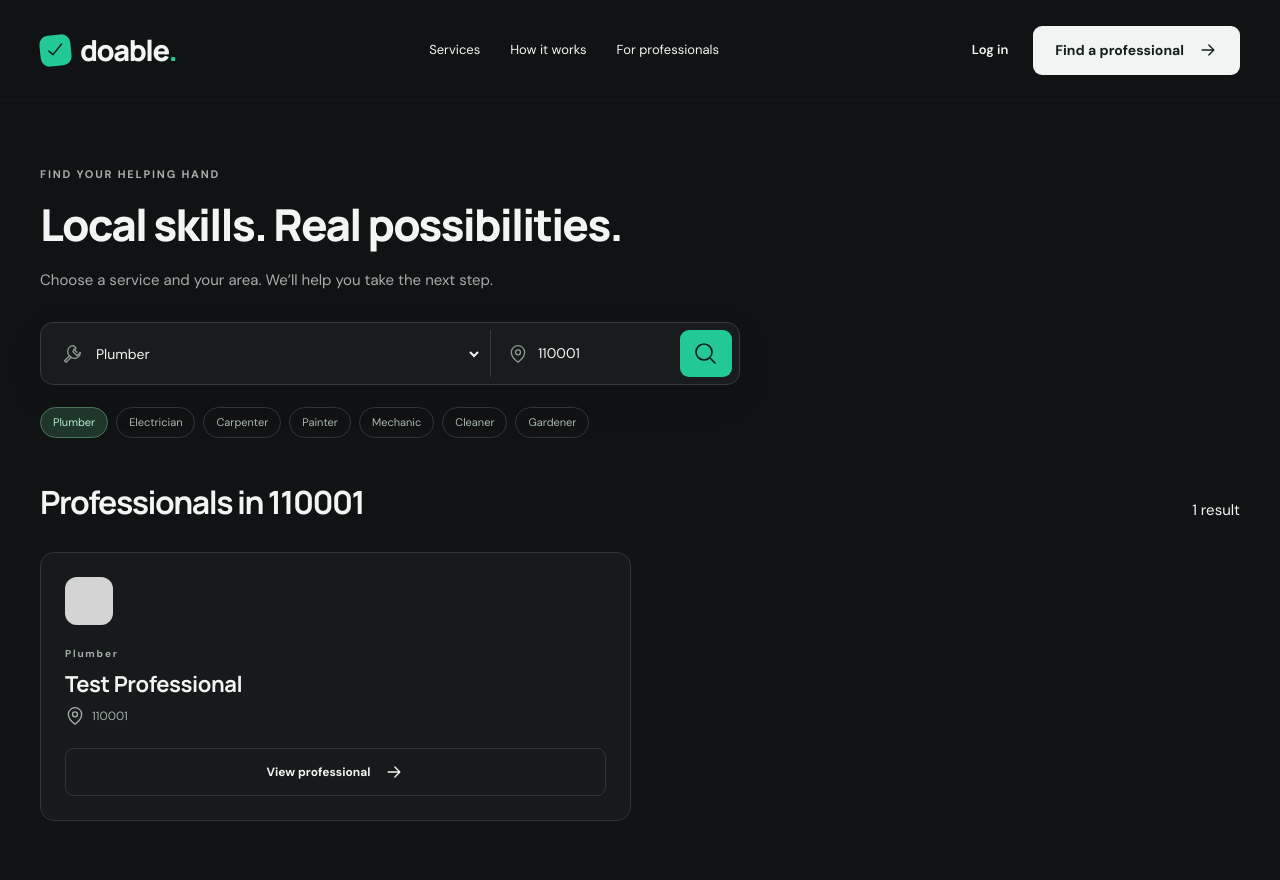
Scenario: returning to the bare services page clears previous public results
Expected: the heading "Test Professional" is shown, [65,671,242,697]
Click the link "Find a professional".
click(1137, 50)  # box [1033,26,1240,74]
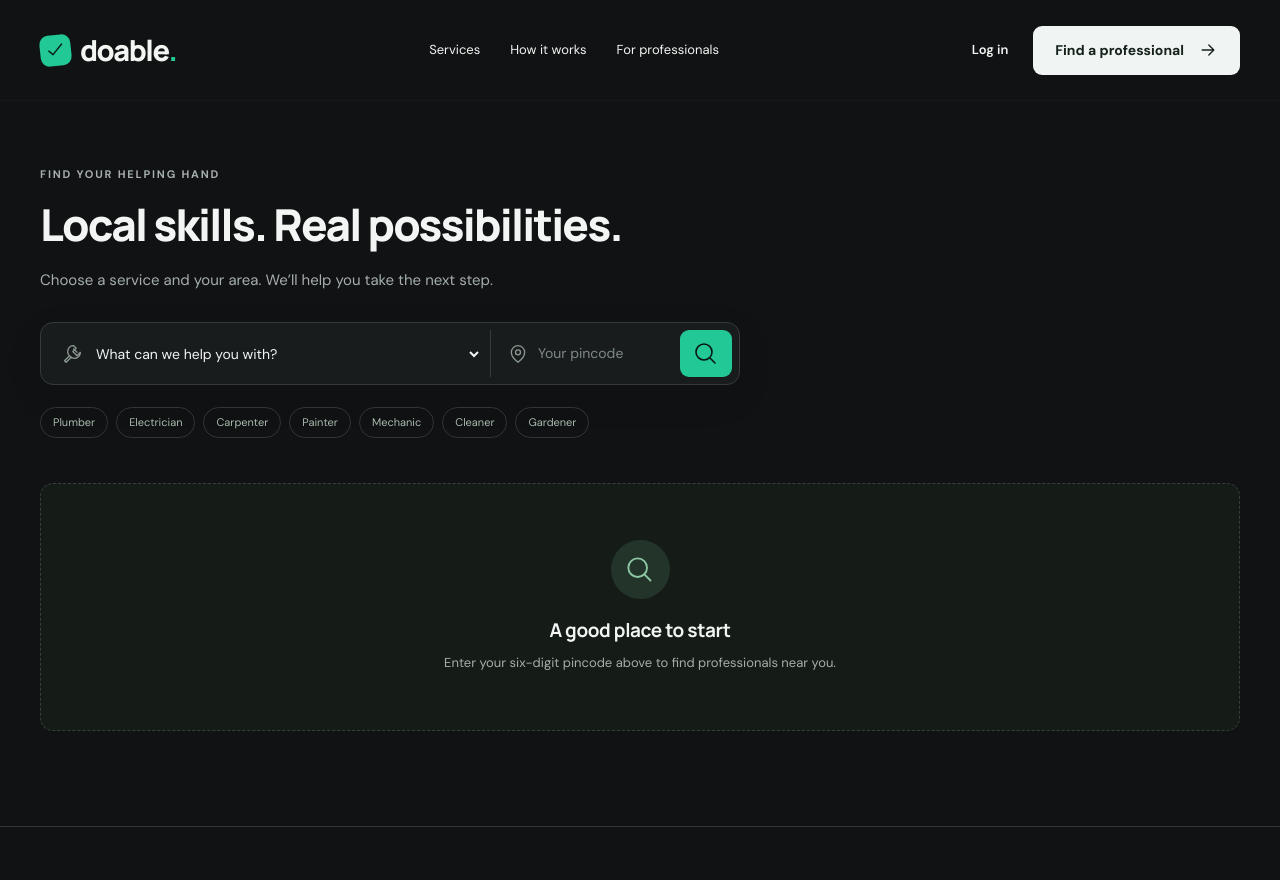
Result: the heading "A good place to start" is shown at [549,617,731,643]
Result: the heading "Test Professional" is gone
Result: the field named "Six-digit pincode" is empty at [538,330,670,377]
